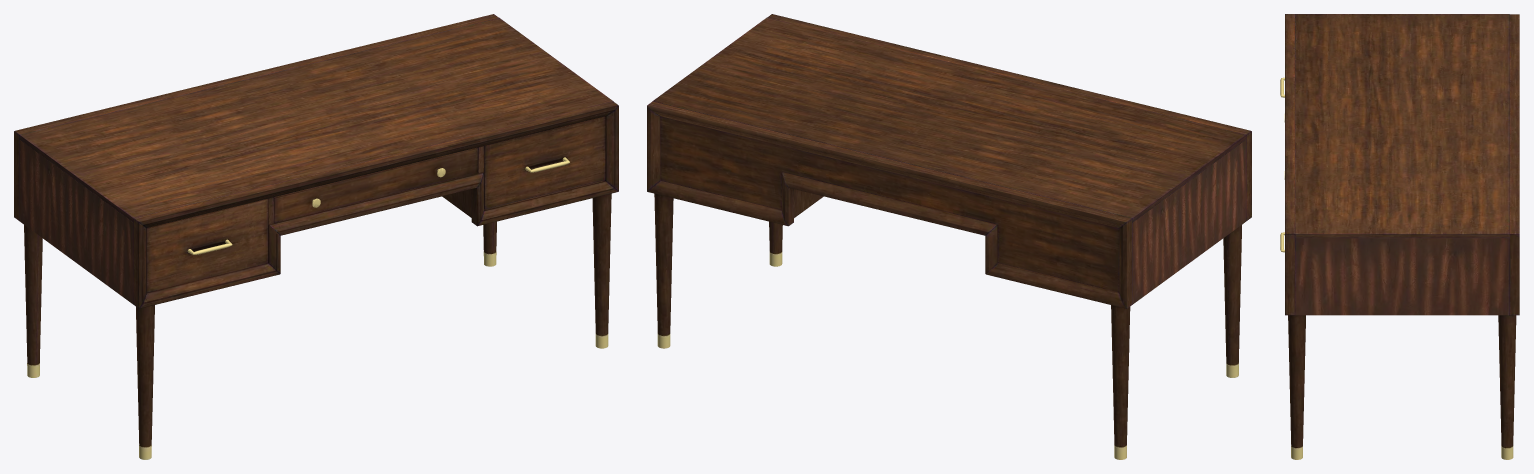
3 views of the same model, side by side, from view 1: azimuth 30°, elevation 25°; view 2: azimuth 150°, elevation 25°; view 3: azimuth 270°, elevation 25° (orthographic). The views are drawn at different scales.
Visible parts, largest first — view 1: RootNode; view 2: RootNode; view 3: RootNode.
Boxes of the visible parts, box(x1,y1,x2,y2) form: RootNode: box(14, 14, 618, 459); RootNode: box(647, 14, 1251, 459); RootNode: box(1280, 14, 1519, 459).
Bounding box in the file's own units: 1.57 × 0.7617 × 0.7244.
1 material, 1 textured.
